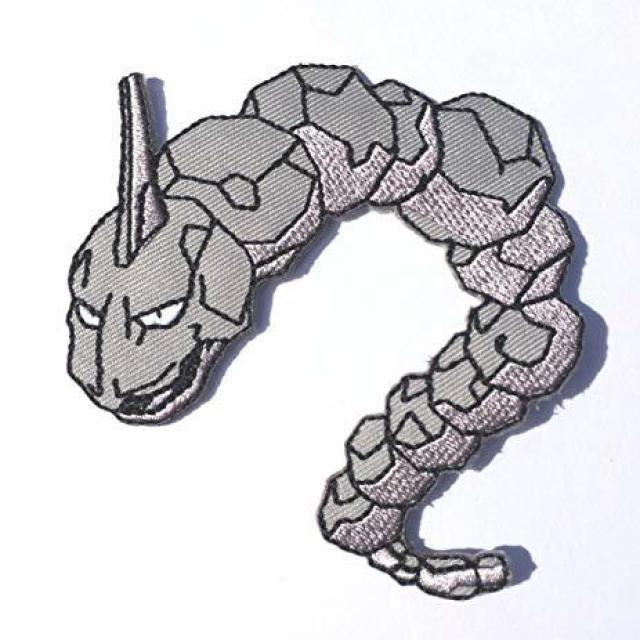Onix: (73, 75, 595, 491)
